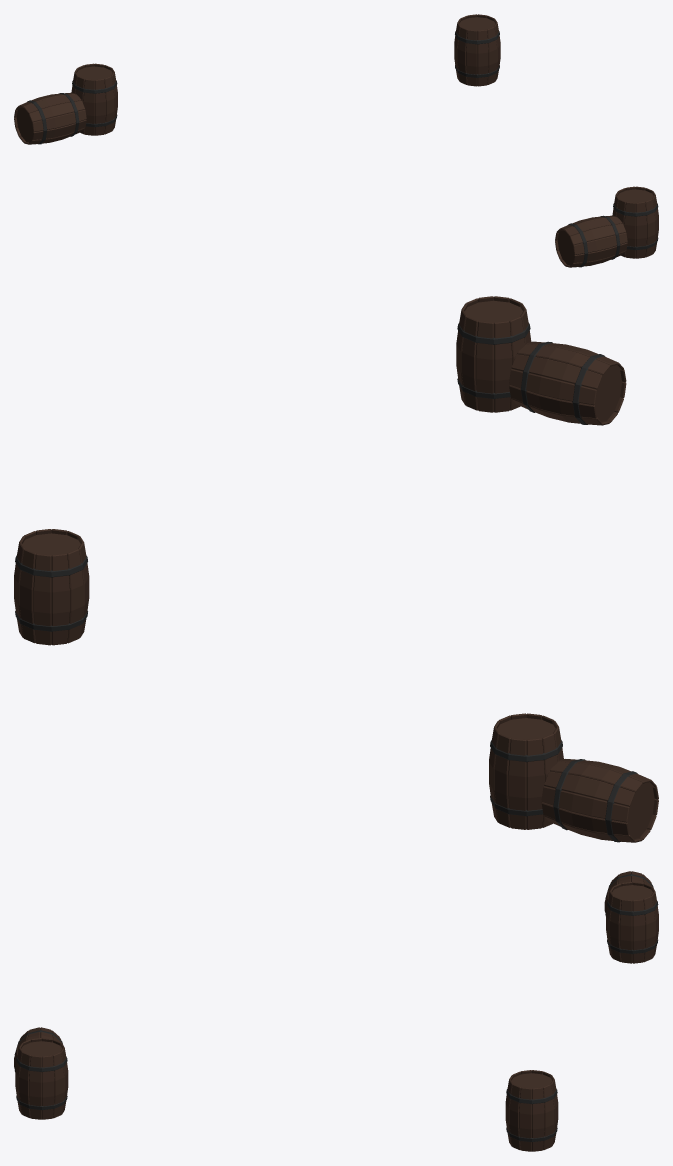
Rendered from barels.fbx.
3 renders of one model, top to bottom at view 1: azimuth 30°, elevation 25°; view 2: azimuth 150°, elevation 25°; view 3: azimuth 270°, elevation 25°, orthographic. The views are drawn at different scales.
Parts seen in each view (by area): view 1: barel.003, barel.004, barel.001, barel, barel.002; view 2: barel.004, barel.001, barel.003, barel, barel.002; view 3: barel.004, barel, barel.002, barel.003, barel.001.
Boxes of the visible parts, x1,y1,x2,y2 form: barel.003: [14, 92, 86, 144]; barel.004: [454, 14, 500, 86]; barel.001: [555, 215, 627, 267]; barel: [612, 186, 658, 258]; barel.002: [71, 63, 117, 135]; barel.004: [14, 529, 89, 645]; barel.001: [509, 341, 626, 425]; barel.003: [541, 759, 658, 842]; barel: [456, 296, 531, 412]; barel.002: [489, 713, 563, 829]; barel.004: [505, 1070, 558, 1151]; barel: [15, 1038, 68, 1119]; barel.002: [606, 882, 658, 963]; barel.003: [604, 871, 653, 915]; barel.001: [14, 1027, 62, 1071].
Bounding box in the file's own units: 809 × 103 × 926.
